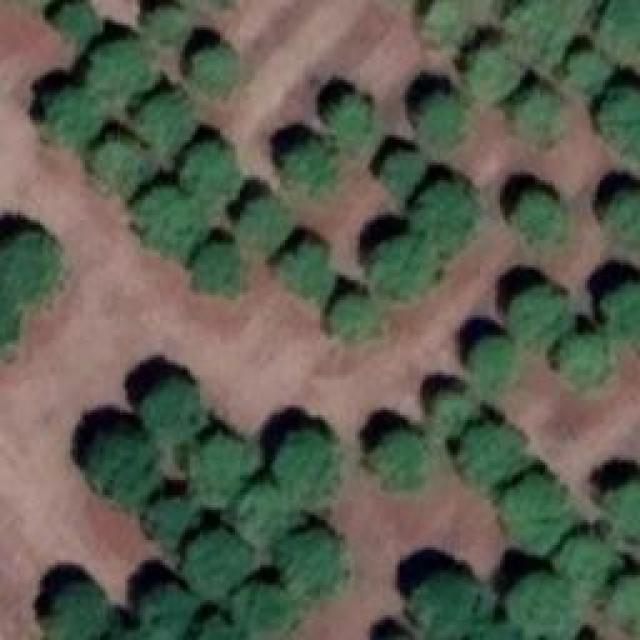Tree: (80, 420, 165, 495), (188, 527, 258, 605), (503, 475, 573, 548), (133, 187, 206, 255), (362, 235, 440, 298), (278, 525, 348, 595), (405, 173, 478, 236), (460, 423, 528, 486), (83, 33, 153, 93), (0, 230, 62, 297), (408, 575, 483, 630), (507, 577, 572, 640), (132, 375, 200, 435), (510, 285, 573, 348), (278, 438, 338, 503), (33, 85, 98, 145), (185, 435, 248, 495), (235, 582, 300, 640), (173, 137, 238, 195), (45, 582, 108, 640), (90, 137, 150, 195), (373, 430, 428, 490), (143, 490, 203, 540), (555, 535, 615, 585), (235, 485, 290, 538), (140, 93, 198, 143), (143, 585, 193, 640), (558, 335, 611, 385), (415, 93, 463, 148), (510, 0, 565, 48), (235, 197, 288, 245), (600, 88, 640, 151), (513, 190, 563, 240), (282, 243, 330, 293), (192, 242, 240, 290), (193, 45, 238, 95), (287, 143, 335, 188), (475, 335, 518, 385), (470, 50, 520, 93), (605, 282, 640, 340), (605, 480, 640, 538), (330, 295, 375, 338), (143, 5, 188, 48), (328, 95, 368, 143), (602, 0, 640, 48), (380, 150, 420, 195), (605, 193, 640, 243), (48, 0, 98, 35), (517, 85, 555, 130), (607, 577, 640, 627), (190, 617, 255, 640), (433, 390, 468, 430), (572, 50, 610, 85), (430, 0, 463, 40)
